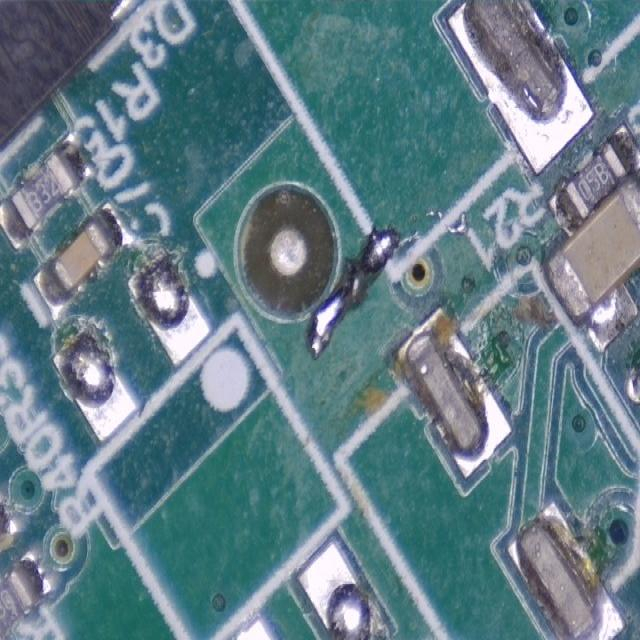Incorrect_installation: (541, 171, 640, 354)
